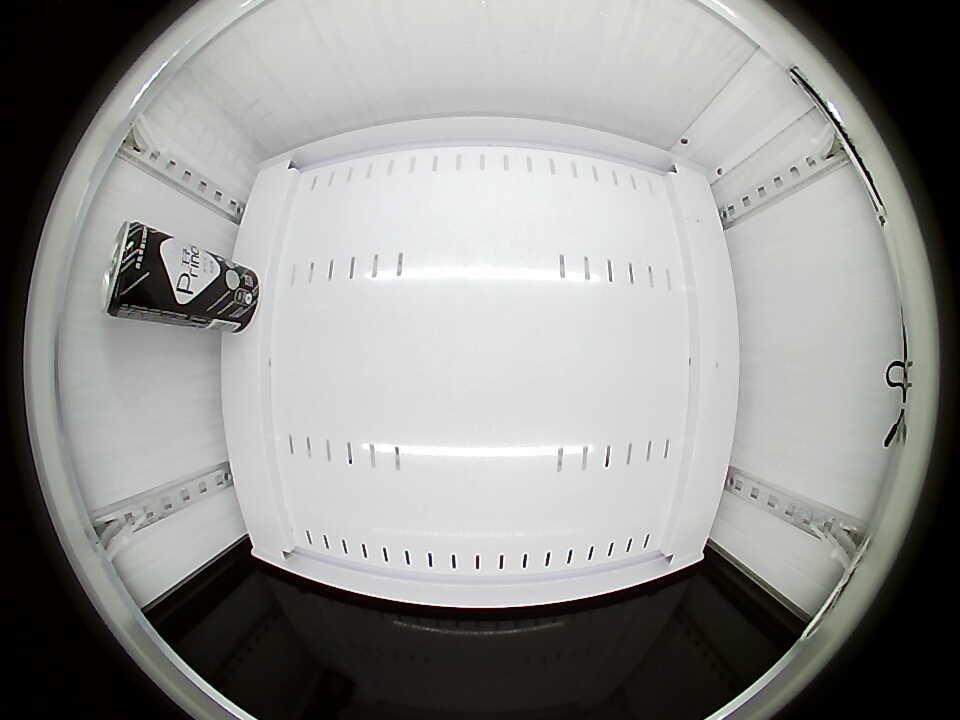qingdaowangzi-1: (102, 221, 166, 318)
